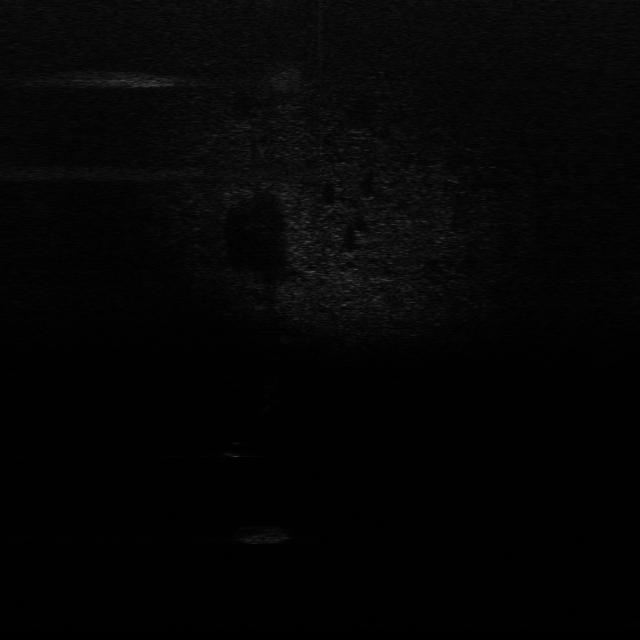ball: (223, 439, 249, 461)
circle cage: (230, 524, 296, 548)
human body: (259, 375, 282, 415)
